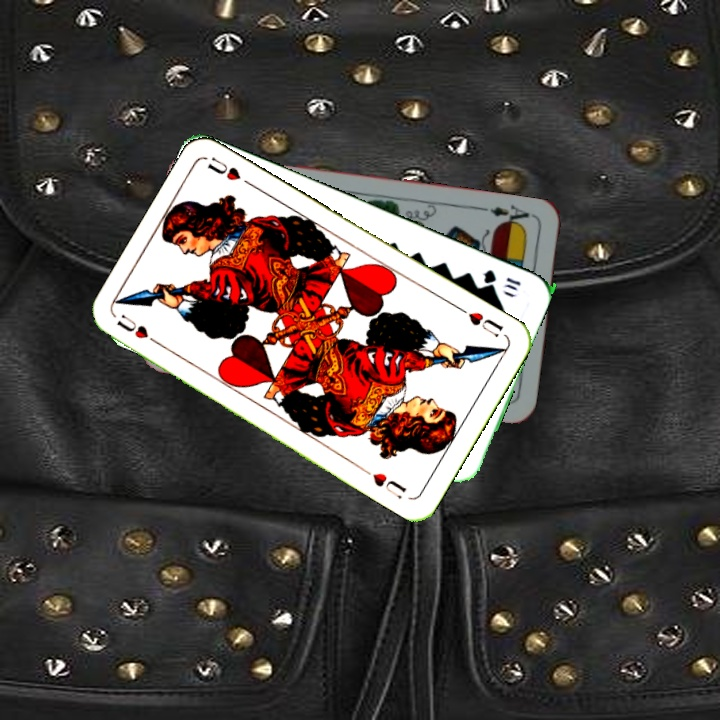EA: (479, 201, 538, 230)
G10: (479, 265, 524, 299)
HU: (112, 310, 165, 350), (455, 303, 506, 340)
